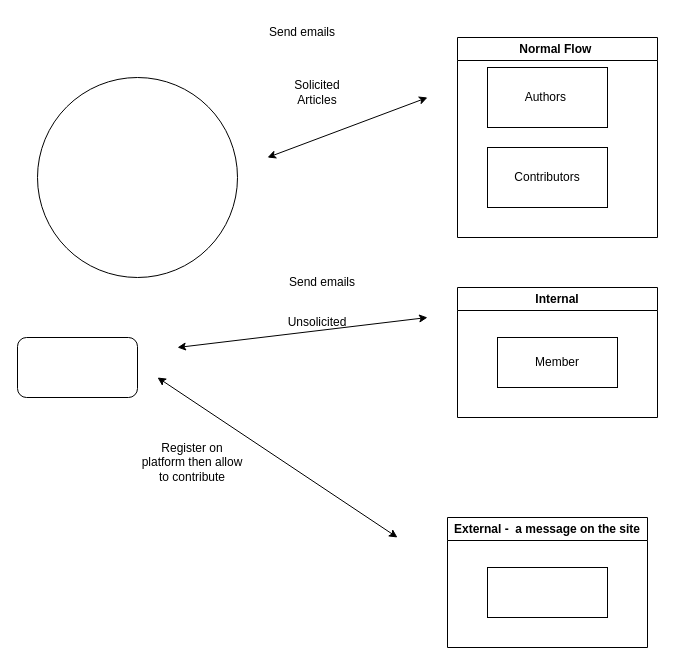
Image size: 675x665. Some labels were removed from this diagram. The centre of each missing label's shape, as x and y in pixels:
"Call For Articles" goes at pixel 137 177.
"Contributor Page" goes at pixel 77 367.
"Readers" goes at pixel 547 592.
